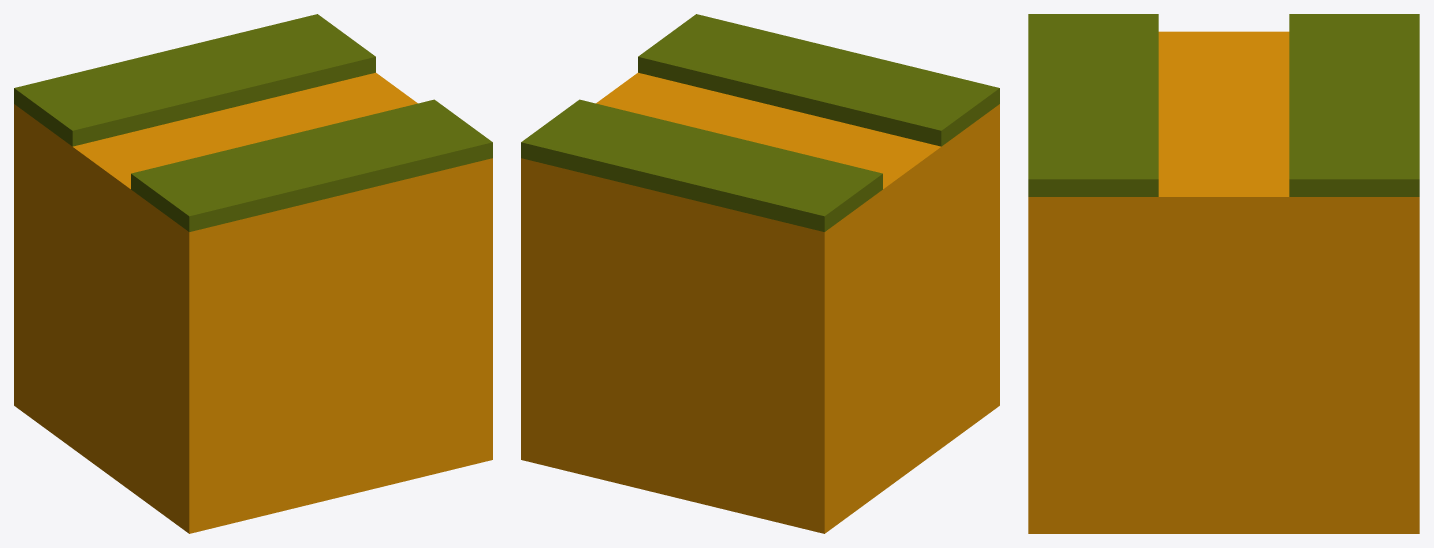
The model's file is FarmStraightCube.fbx.
The picture shows the model from 3 angles, left to right: view 1: azimuth 30°, elevation 25°; view 2: azimuth 150°, elevation 25°; view 3: azimuth 270°, elevation 25°; orthographic projection. The views are drawn at different scales.
Visible parts, largest first — view 1: FarmStraightCube; view 2: FarmStraightCube; view 3: FarmStraightCube.
Boxes of the visible parts, x1=… form: FarmStraightCube: x1=14, y1=14, x2=492, y2=533; FarmStraightCube: x1=521, y1=14, x2=999, y2=533; FarmStraightCube: x1=1028, y1=14, x2=1419, y2=533.
Size of the model in its own units: 1 by 1 by 1.
